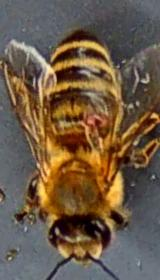varroa_mite: (80, 104, 112, 138)
